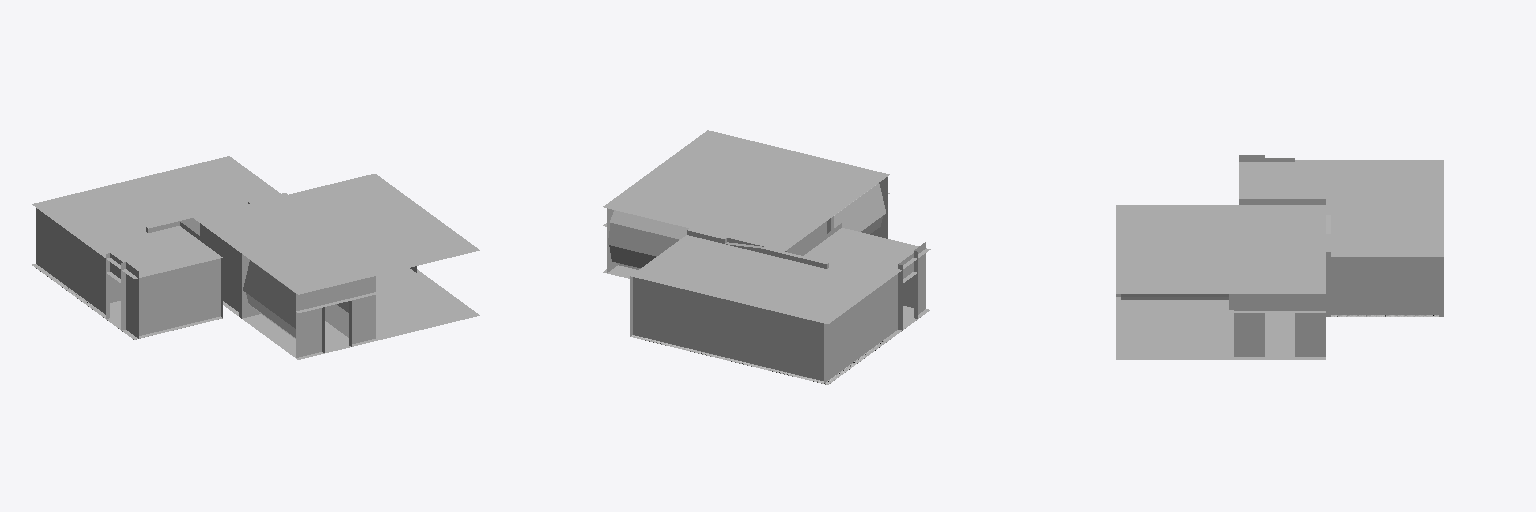
3 renders of one model, left to right at view 1: azimuth 30°, elevation 25°; view 2: azimuth 150°, elevation 25°; view 3: azimuth 270°, elevation 25°, orthographic.
Bounding box in the file's own units: 2048 × 472 × 2048.
14 materials, 1 textured.